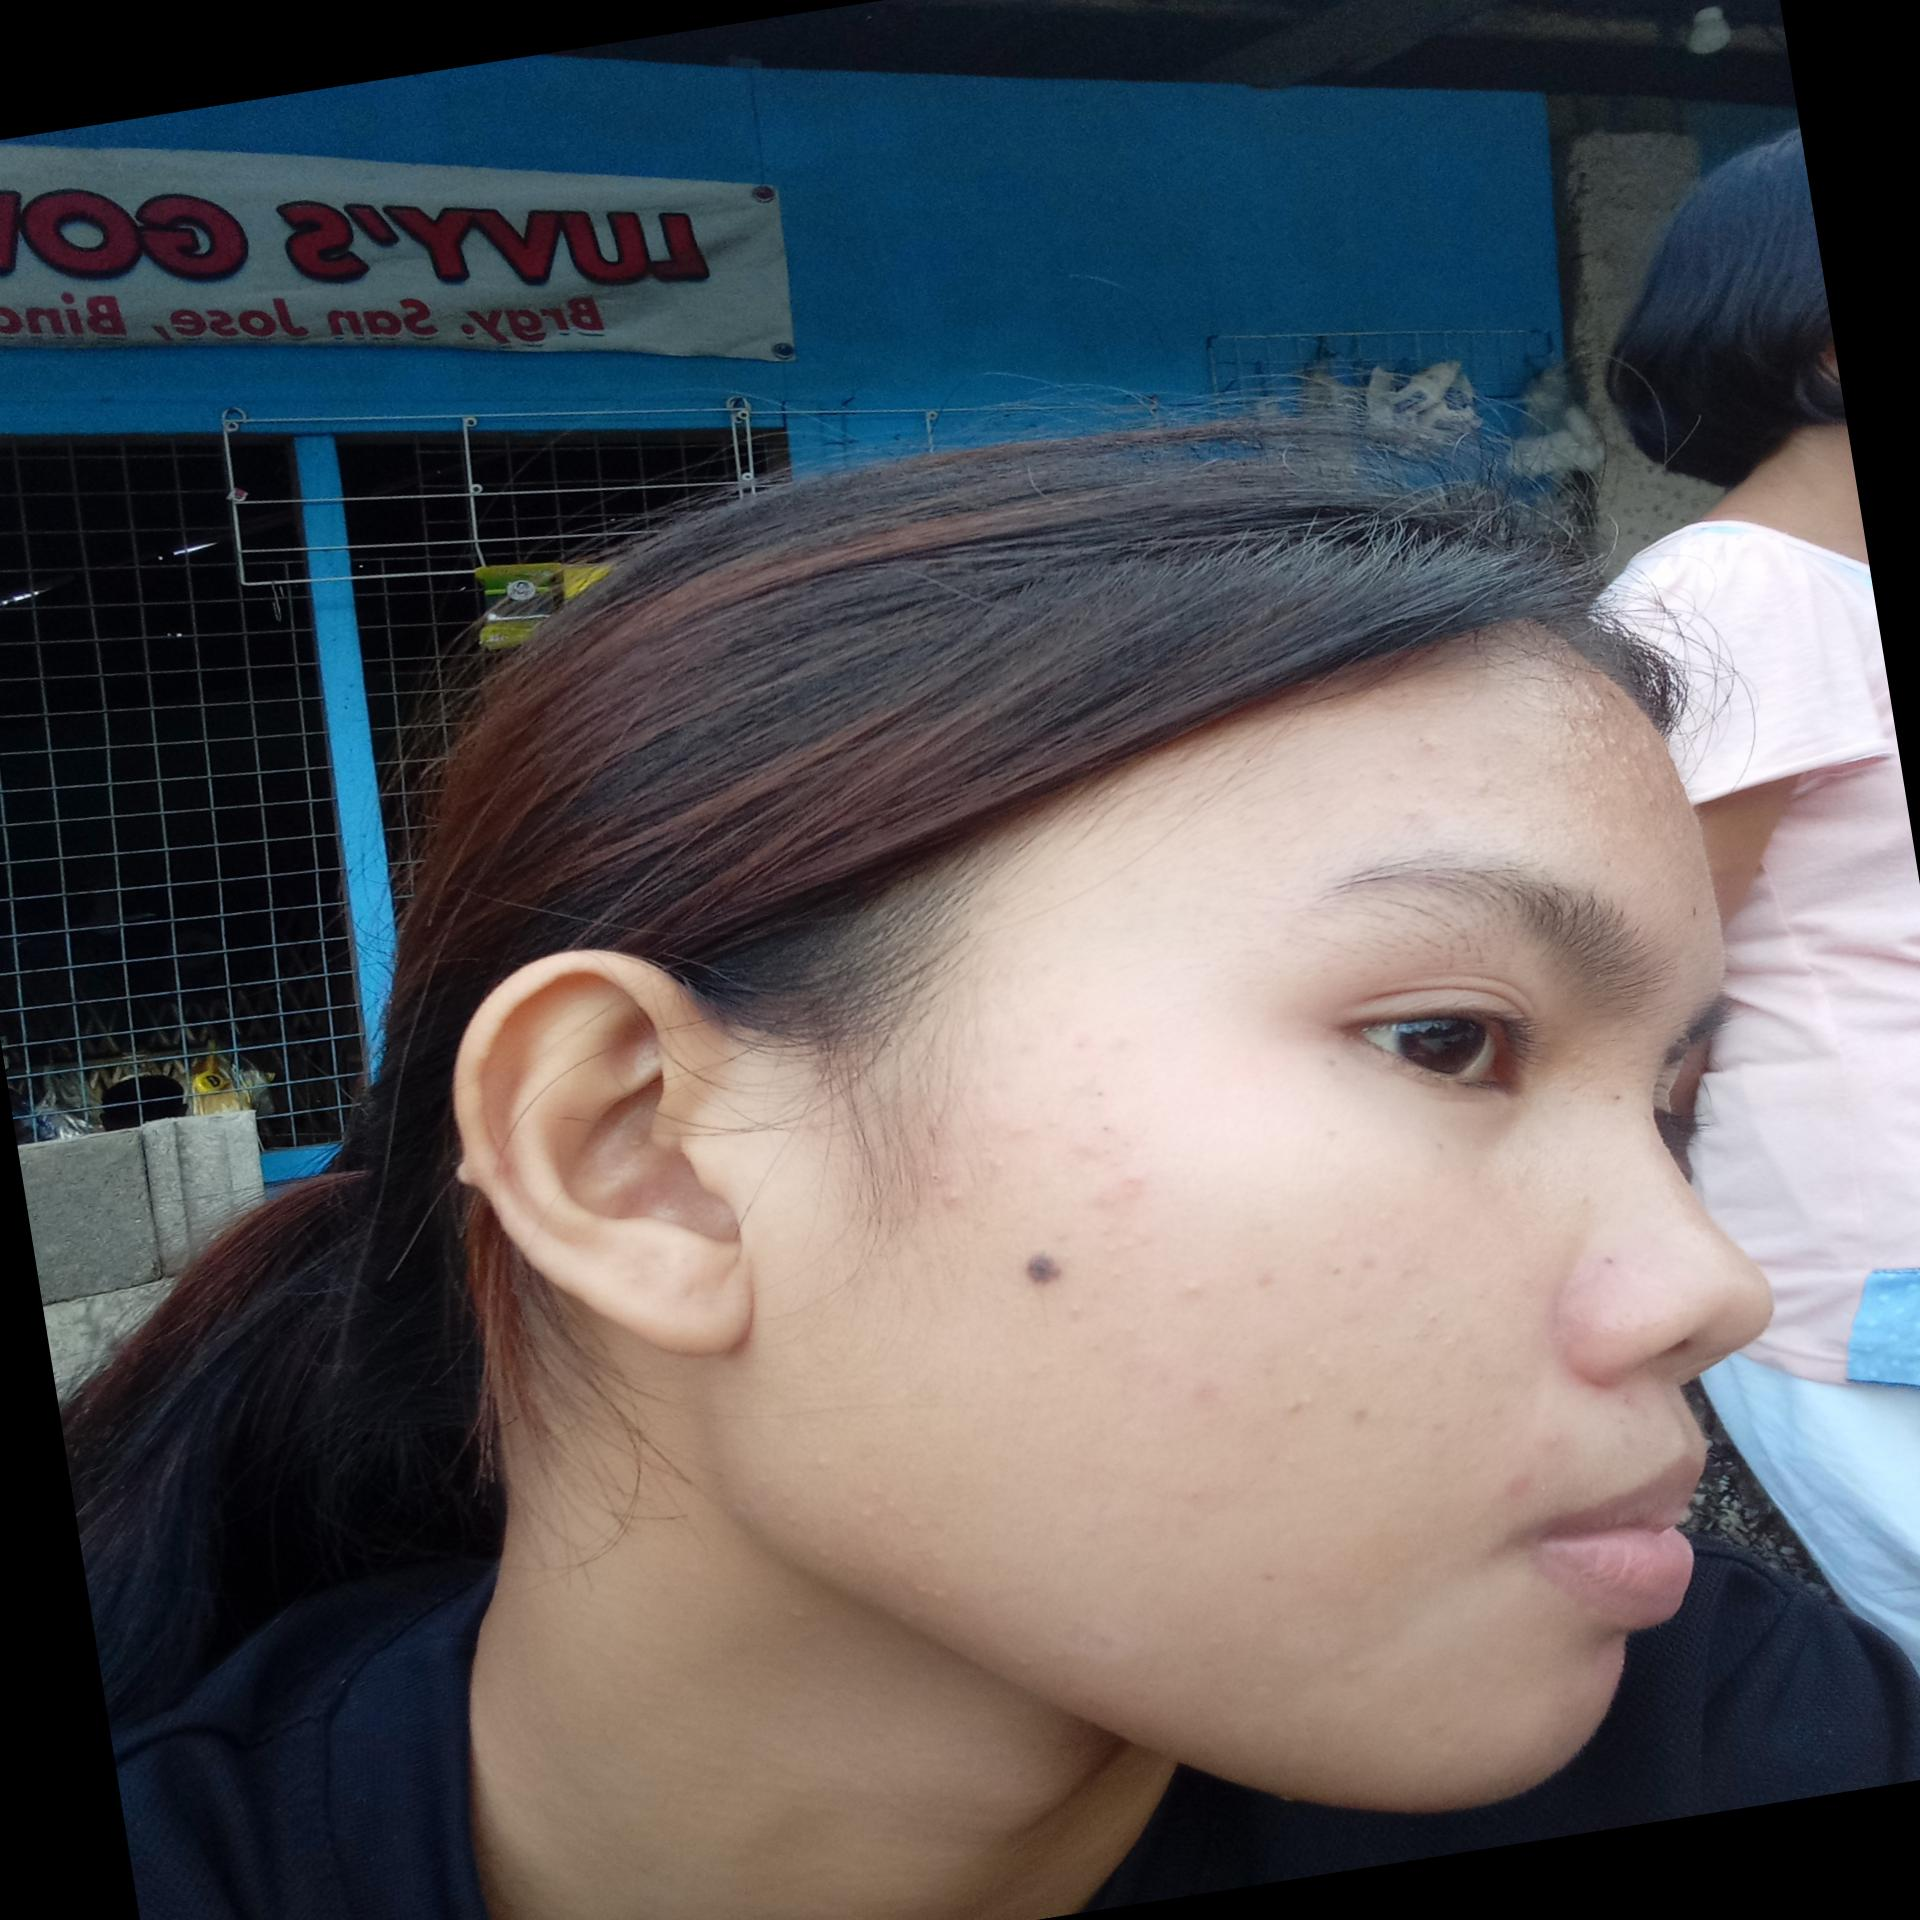Acne: (1512, 640, 1679, 835), (1146, 1241, 1394, 1312), (992, 1016, 1138, 1074), (1475, 1428, 1581, 1503), (1598, 1385, 1658, 1466), (1398, 1298, 1473, 1357), (1088, 1164, 1166, 1215), (1182, 1371, 1234, 1414)
Blackhead: (1078, 1078, 1125, 1148)
